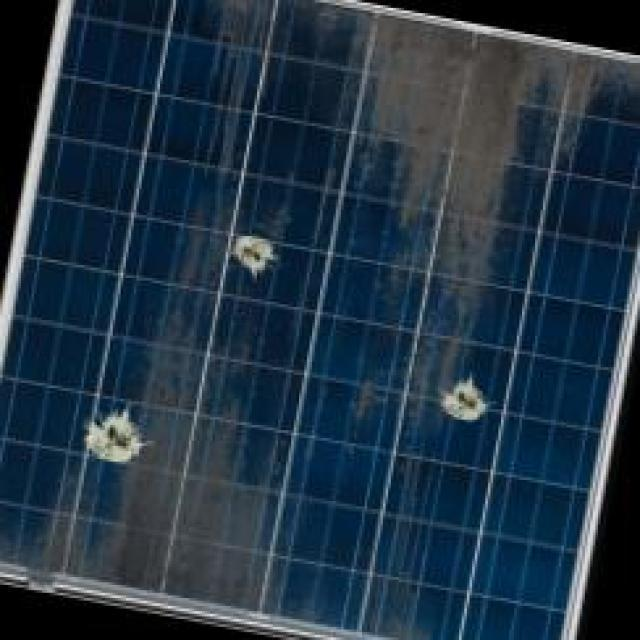Physical-damage: (386, 44, 526, 156), (119, 487, 254, 580), (555, 56, 599, 136), (90, 409, 138, 463), (442, 379, 486, 423), (234, 234, 278, 272)
